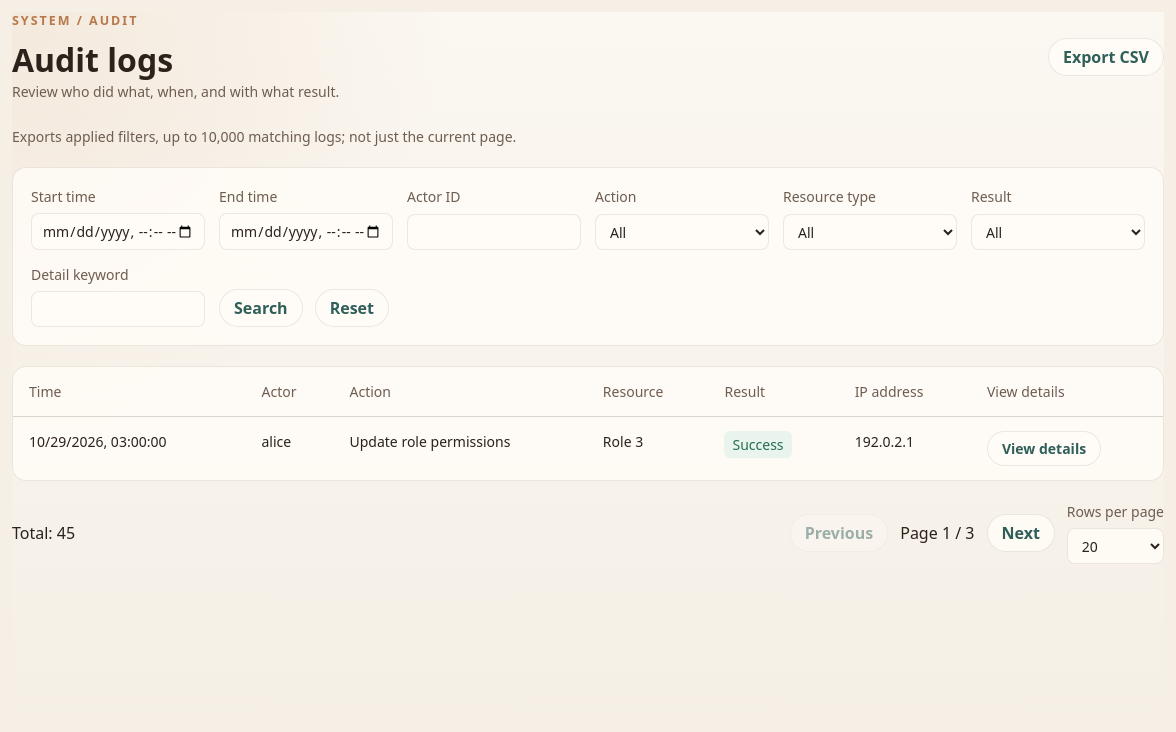
audit log page › reports an export permission failure without discarding the list
Click the button "Export CSV": coordinates (1106, 57) [1048, 38, 1164, 76]
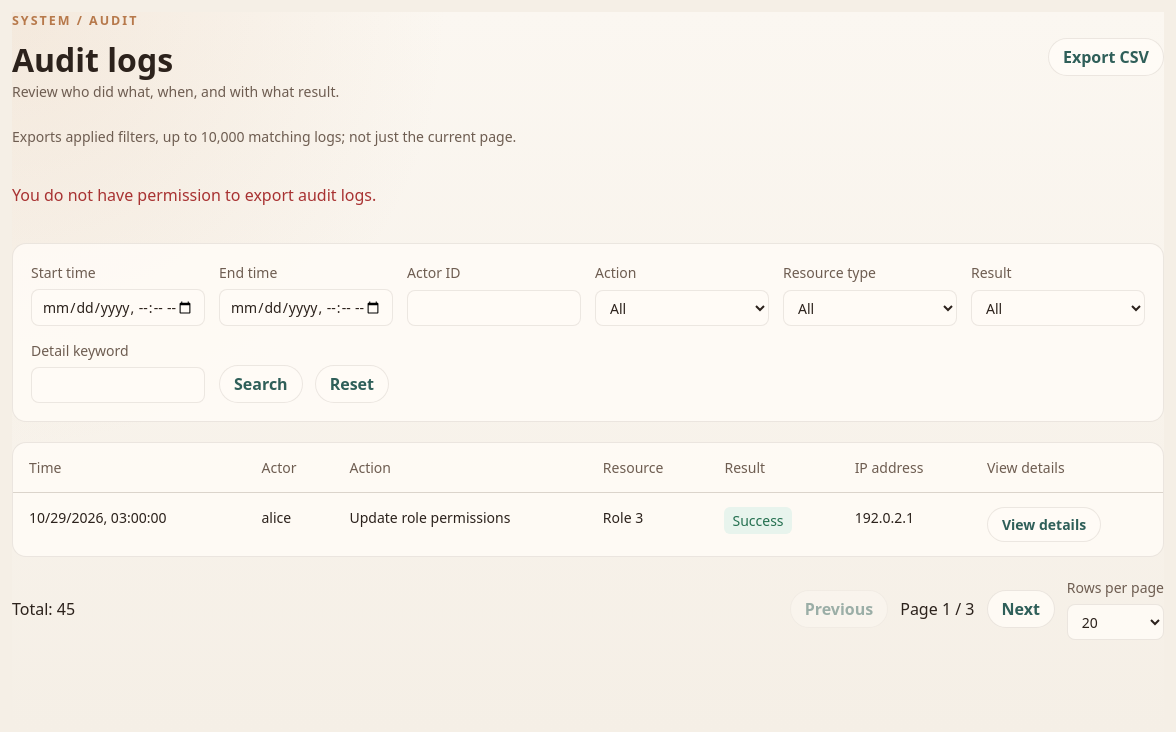
Expected: the text "alice" is shown, [246, 493, 334, 556]
Expected: the text "You do not have permission to export" is shown, [12, 184, 376, 206]
